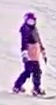snowboarder: (6, 11, 55, 100)
